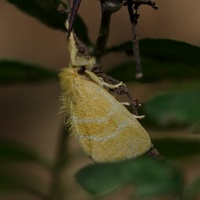insect: (59, 0, 153, 161), (94, 0, 157, 78), (124, 0, 156, 76)
